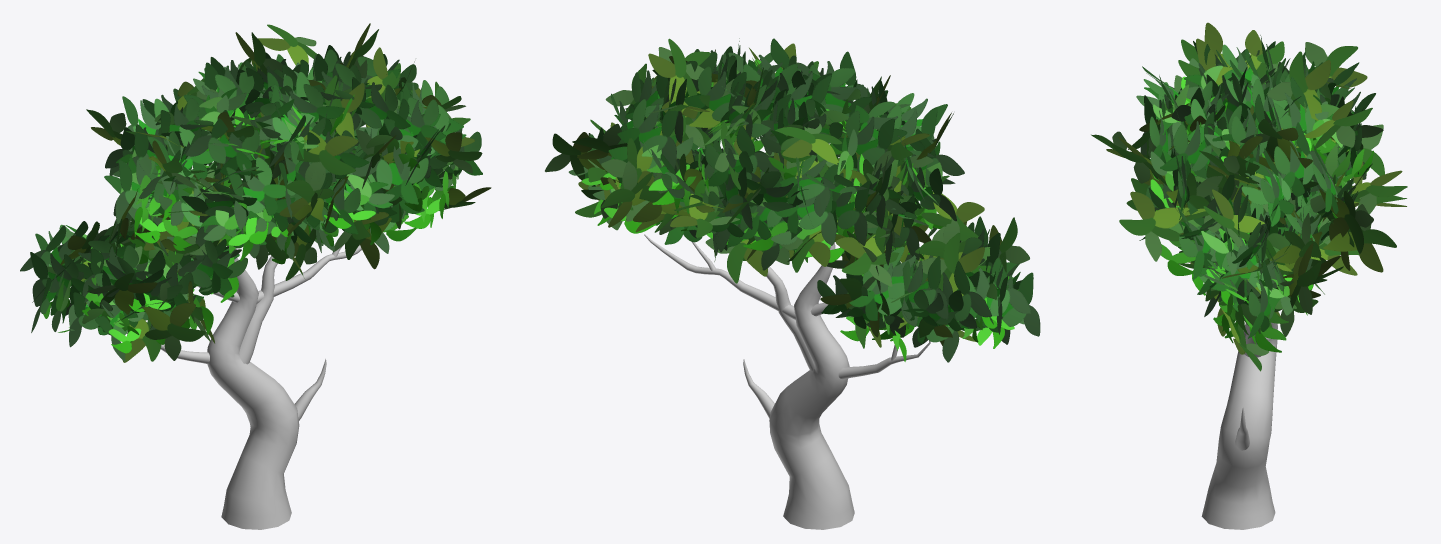
Rendered from pohon2.fbx.
3 views of the same model, side by side, from view 1: azimuth 30°, elevation 25°; view 2: azimuth 150°, elevation 25°; view 3: azimuth 270°, elevation 25° (orthographic). The views are drawn at different scales.
Visible parts, largest first — view 1: pohon baruu; view 2: pohon baruu; view 3: pohon baruu.
Boxes of the visible parts, x1,y1,x2,y2 form: pohon baruu: (20, 23, 491, 529); pohon baruu: (545, 38, 1040, 529); pohon baruu: (1091, 22, 1407, 529).
Size of the model in its own units: 776 by 749 by 484.
